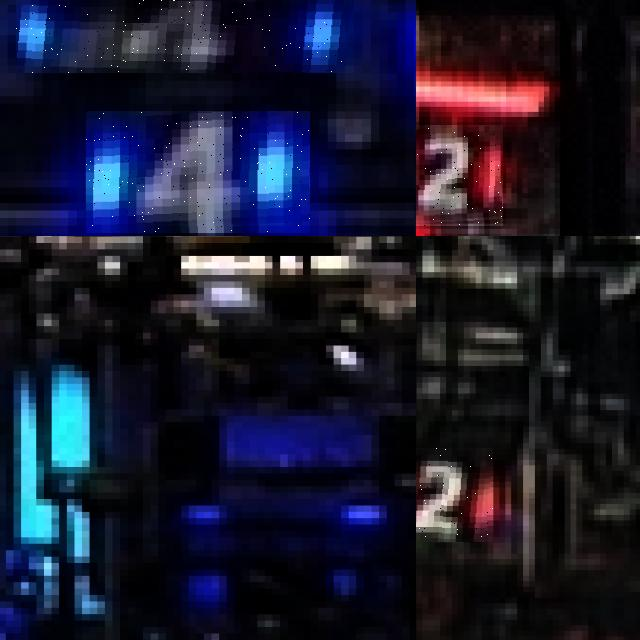B4: (86, 112, 310, 234), (16, 0, 353, 73)
R2: (416, 124, 503, 226), (416, 448, 493, 542)
